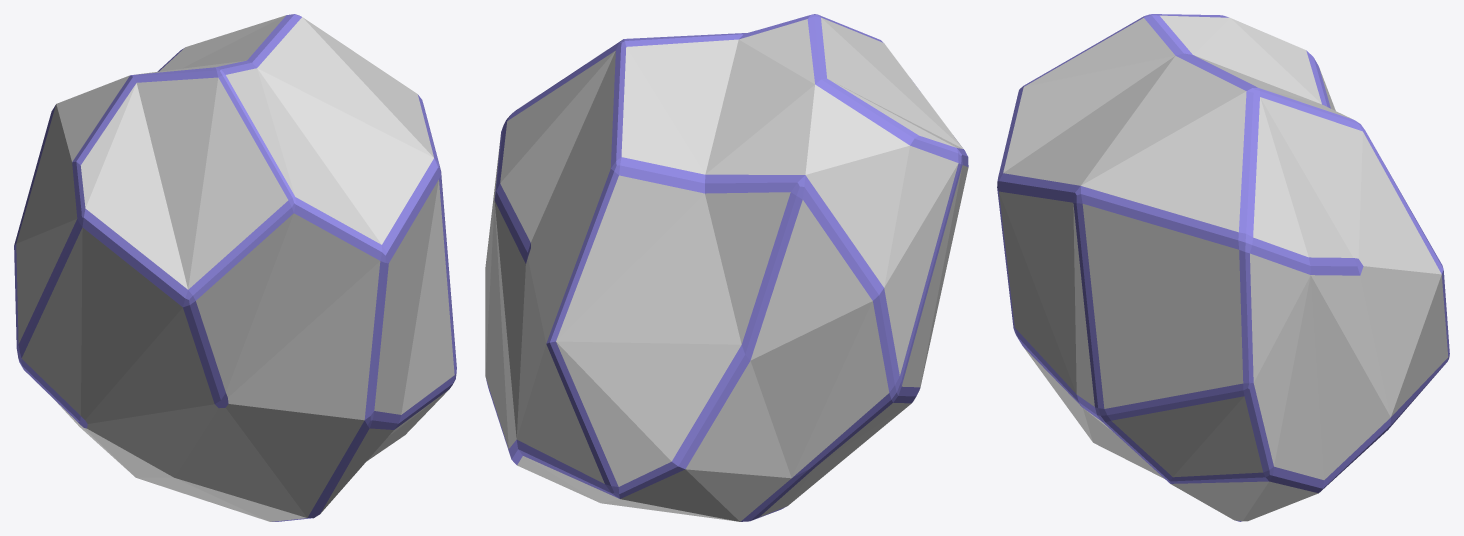
Rendered from stone_006.fbx.
3 renders of one model, left to right at view 1: azimuth 30°, elevation 25°; view 2: azimuth 150°, elevation 25°; view 3: azimuth 270°, elevation 25°, orthographic. The views are drawn at different scales.
Parts seen in each view (by area): view 1: stone; view 2: stone; view 3: stone.
Boxes of the visible parts, x1,y1,x2,y2 form: stone: [14, 14, 456, 521]; stone: [485, 14, 968, 521]; stone: [997, 14, 1449, 521].
Size of the model in its own units: 147 by 165 by 154.
